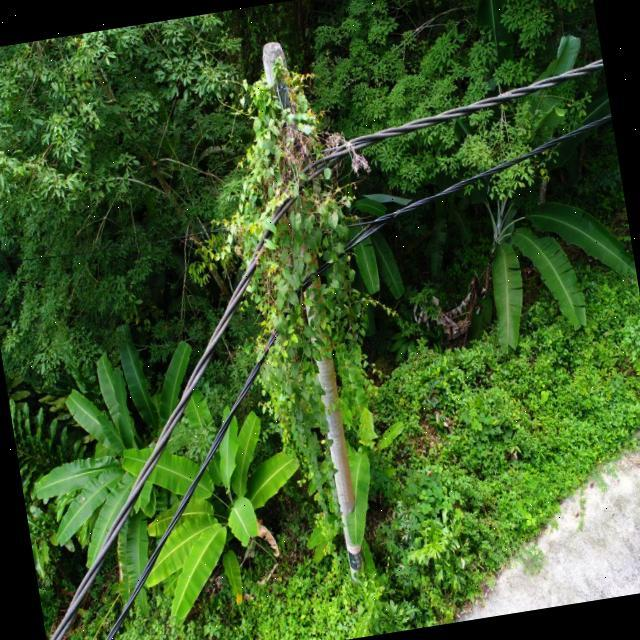critical vegetation: (197, 49, 420, 420)
